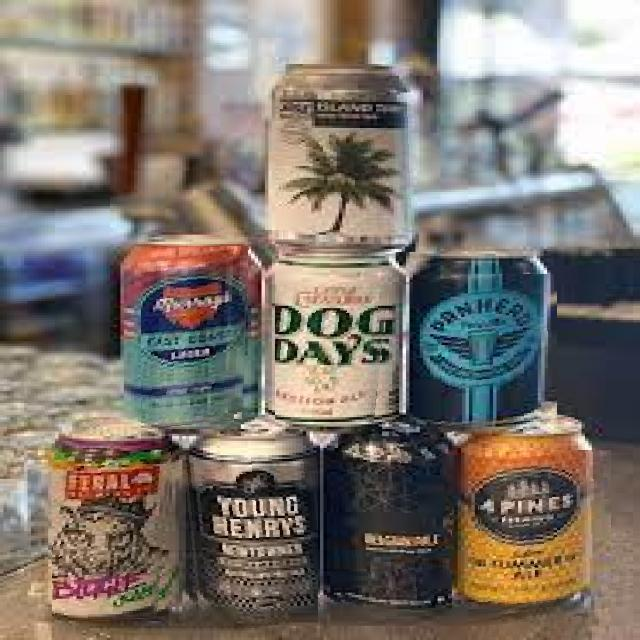Cans: (477, 450, 611, 638), (277, 76, 419, 252), (330, 429, 452, 616), (183, 458, 318, 626), (52, 448, 172, 622), (141, 246, 249, 430), (434, 274, 557, 430), (275, 268, 390, 422)
